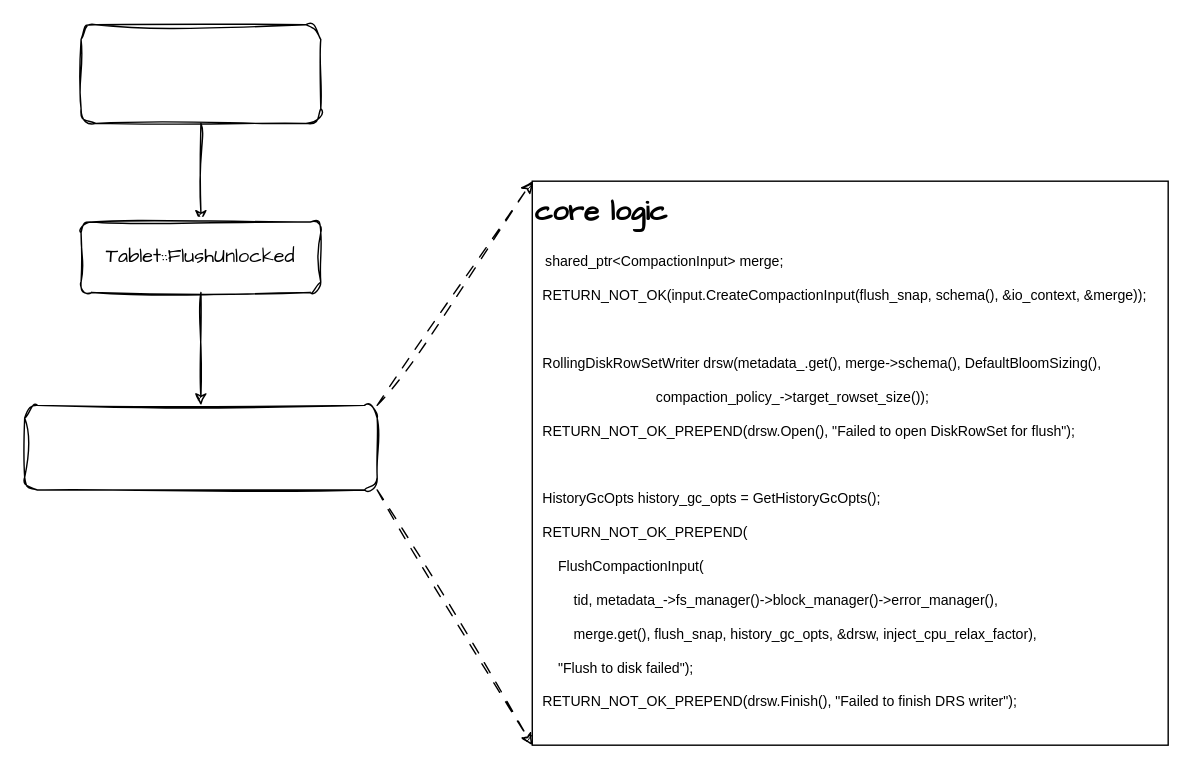
Some shapes in this 1193 by 781 pixel diagram are drawn without their labels. Here are the shapes that lost their labels. From the top down, the centre of each, then its label:
At point (200, 73): "FlushMRSOp::Perform".
At point (200, 447): "Tablet::DoMergeCompactionOrFlush".
